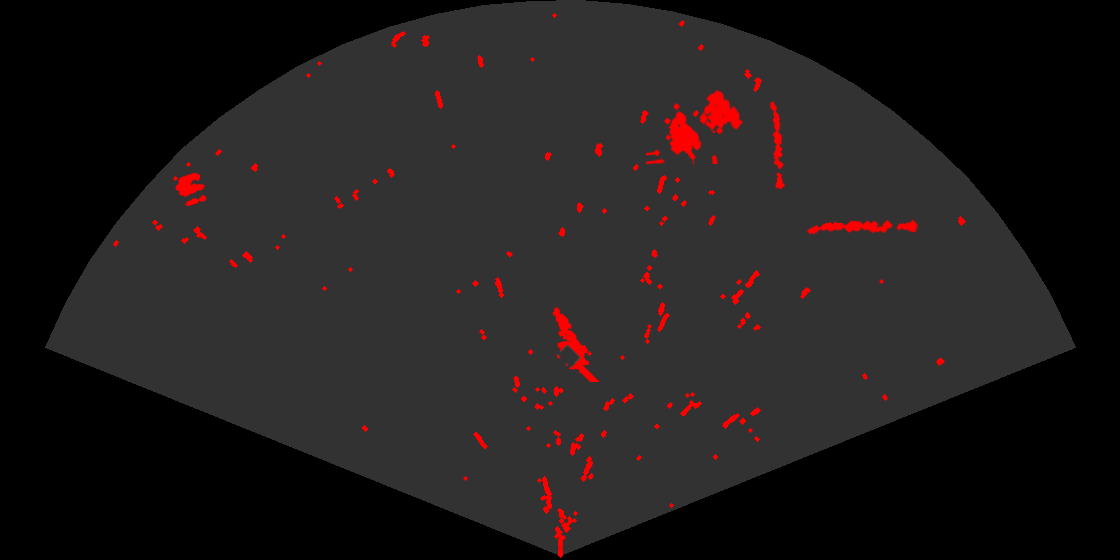ball: (174, 171, 208, 208)
cage: (646, 88, 745, 164)
chain: (806, 218, 919, 236), (768, 100, 787, 190)
frogman: (551, 306, 601, 382)
